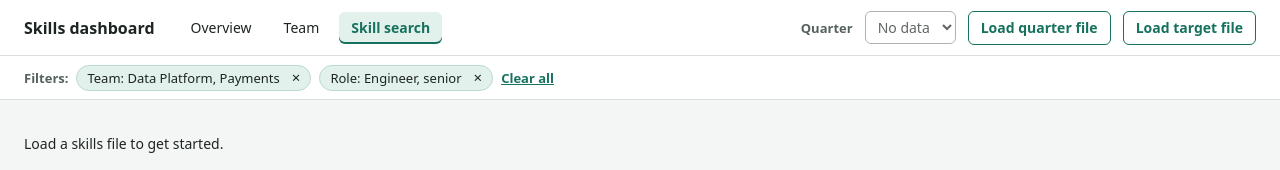
S4 app shell › S4 EC: filter chips and Clear all navigate in one step
Expected: the element named "Applied filters" shows "Team: Data Platform, Payments", x1=0 y1=56 x2=1279 y2=100
Expected: the button named "Remove filter Team: Data Platform, Payments" is shown, x1=286 y1=68 x2=306 y2=87
What coordinates should you click on to do the following:
click the button named "Remove filter Role: \"Engineer, senior\""
I would click on:
 (478, 78)
Its box is x1=468 y1=68 x2=488 y2=87.
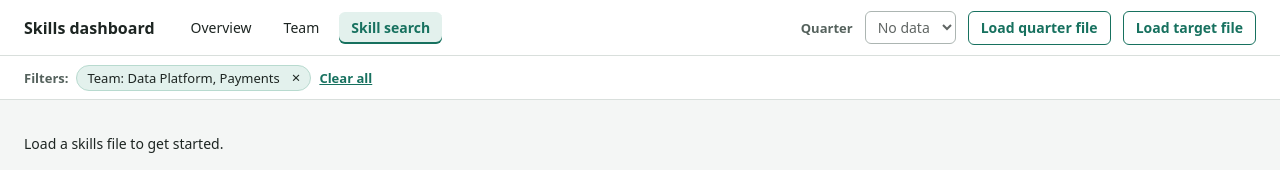
What coordinates should you click on to do the following:
click the button "Clear all"
I would click on:
 (346, 78)
Its box is x1=319 y1=68 x2=372 y2=88.
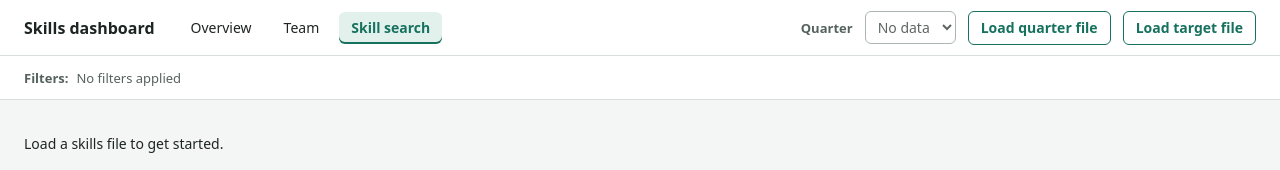
Now the text "No filters applied" is shown, box x1=76 y1=68 x2=181 y2=88
Now the button "Clear all" is gone
